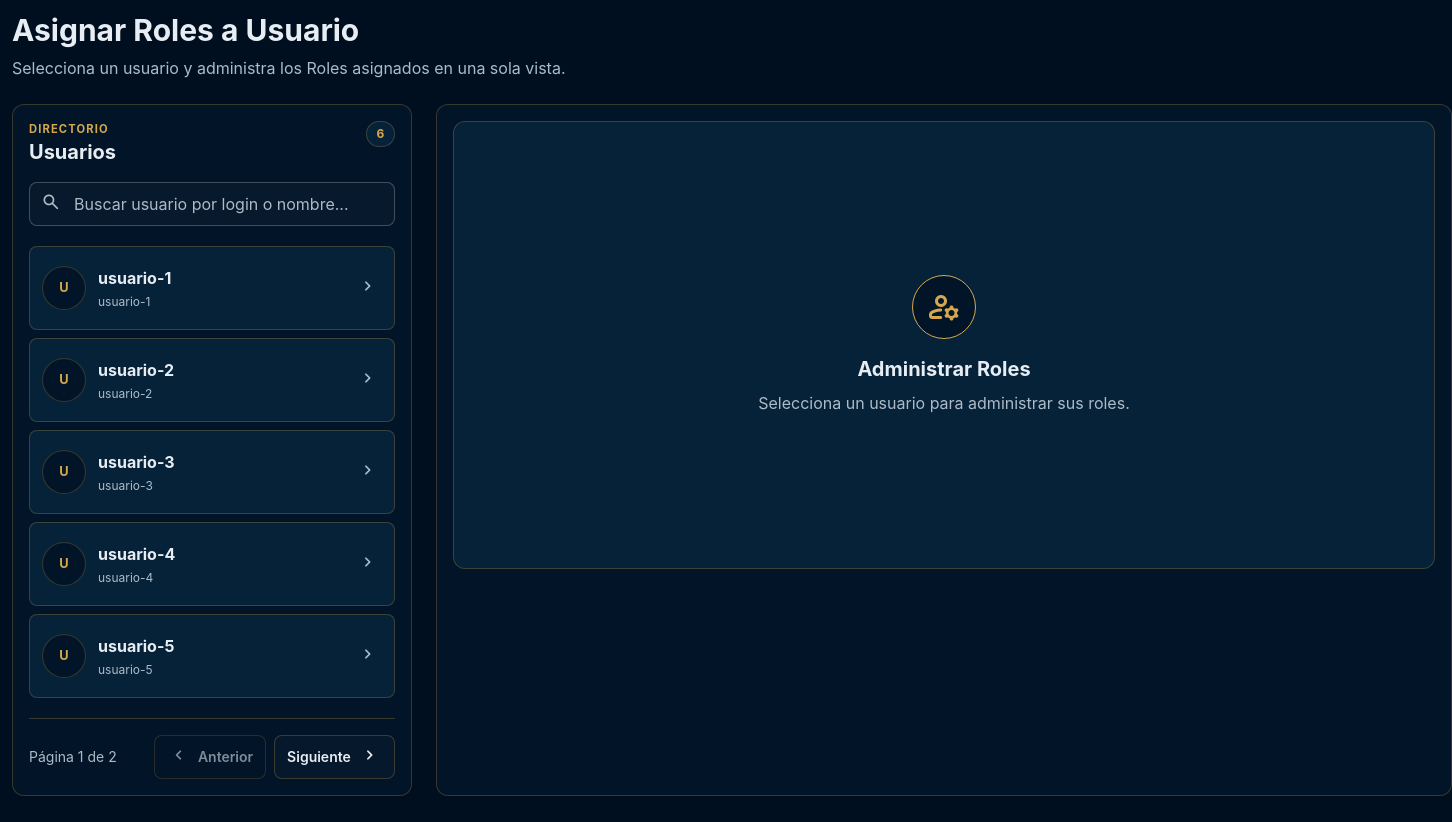
Scenario: AsignarRolesListComponent › shows and navigates the user paginator for 6 users
Click the button "Siguiente" at (335, 757), box [274,735,395,779]
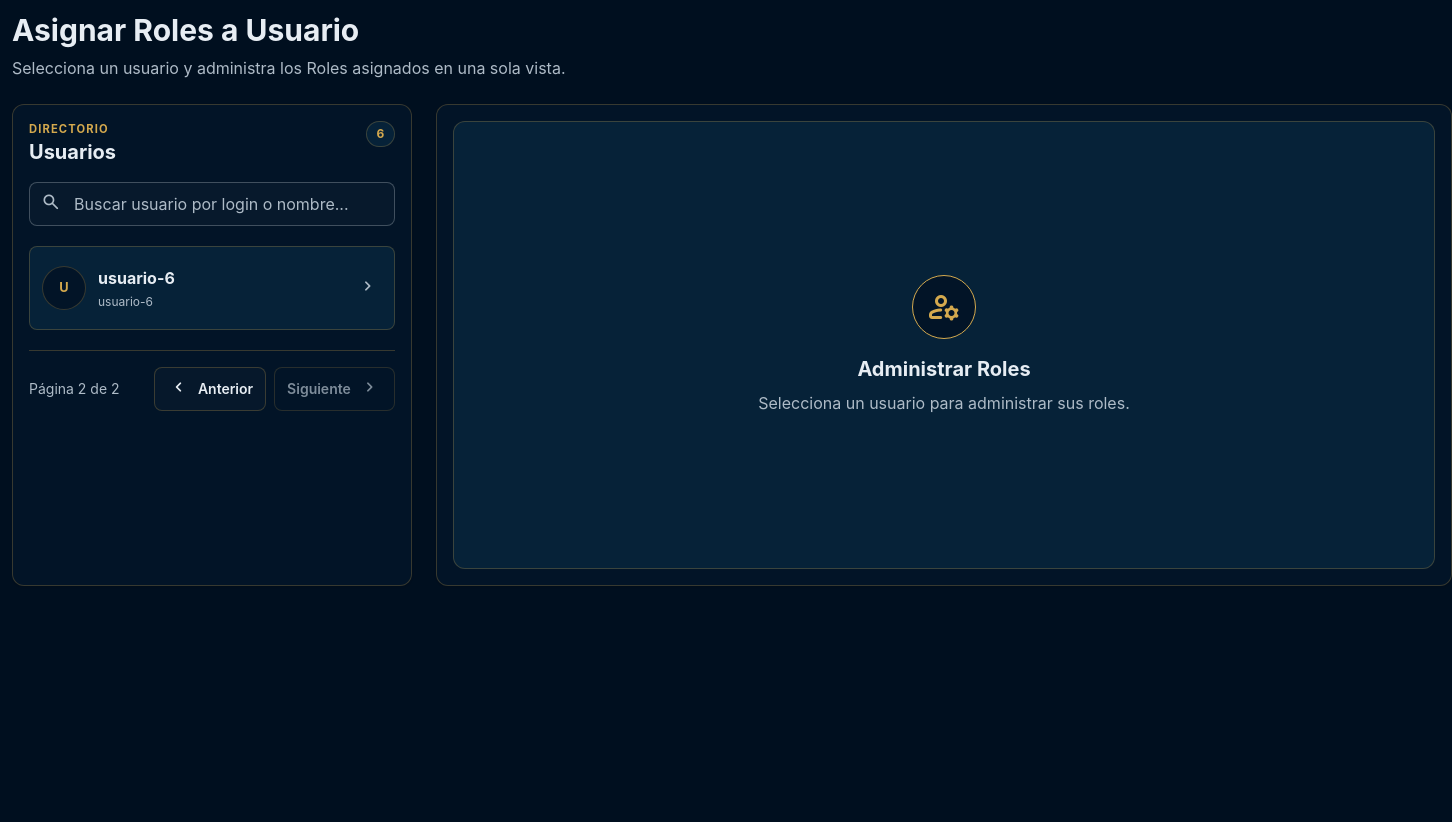
Now the navigation bar named "Paginación de Usuarios" shows "Página 2 de 2", box [29,380,120,397]
